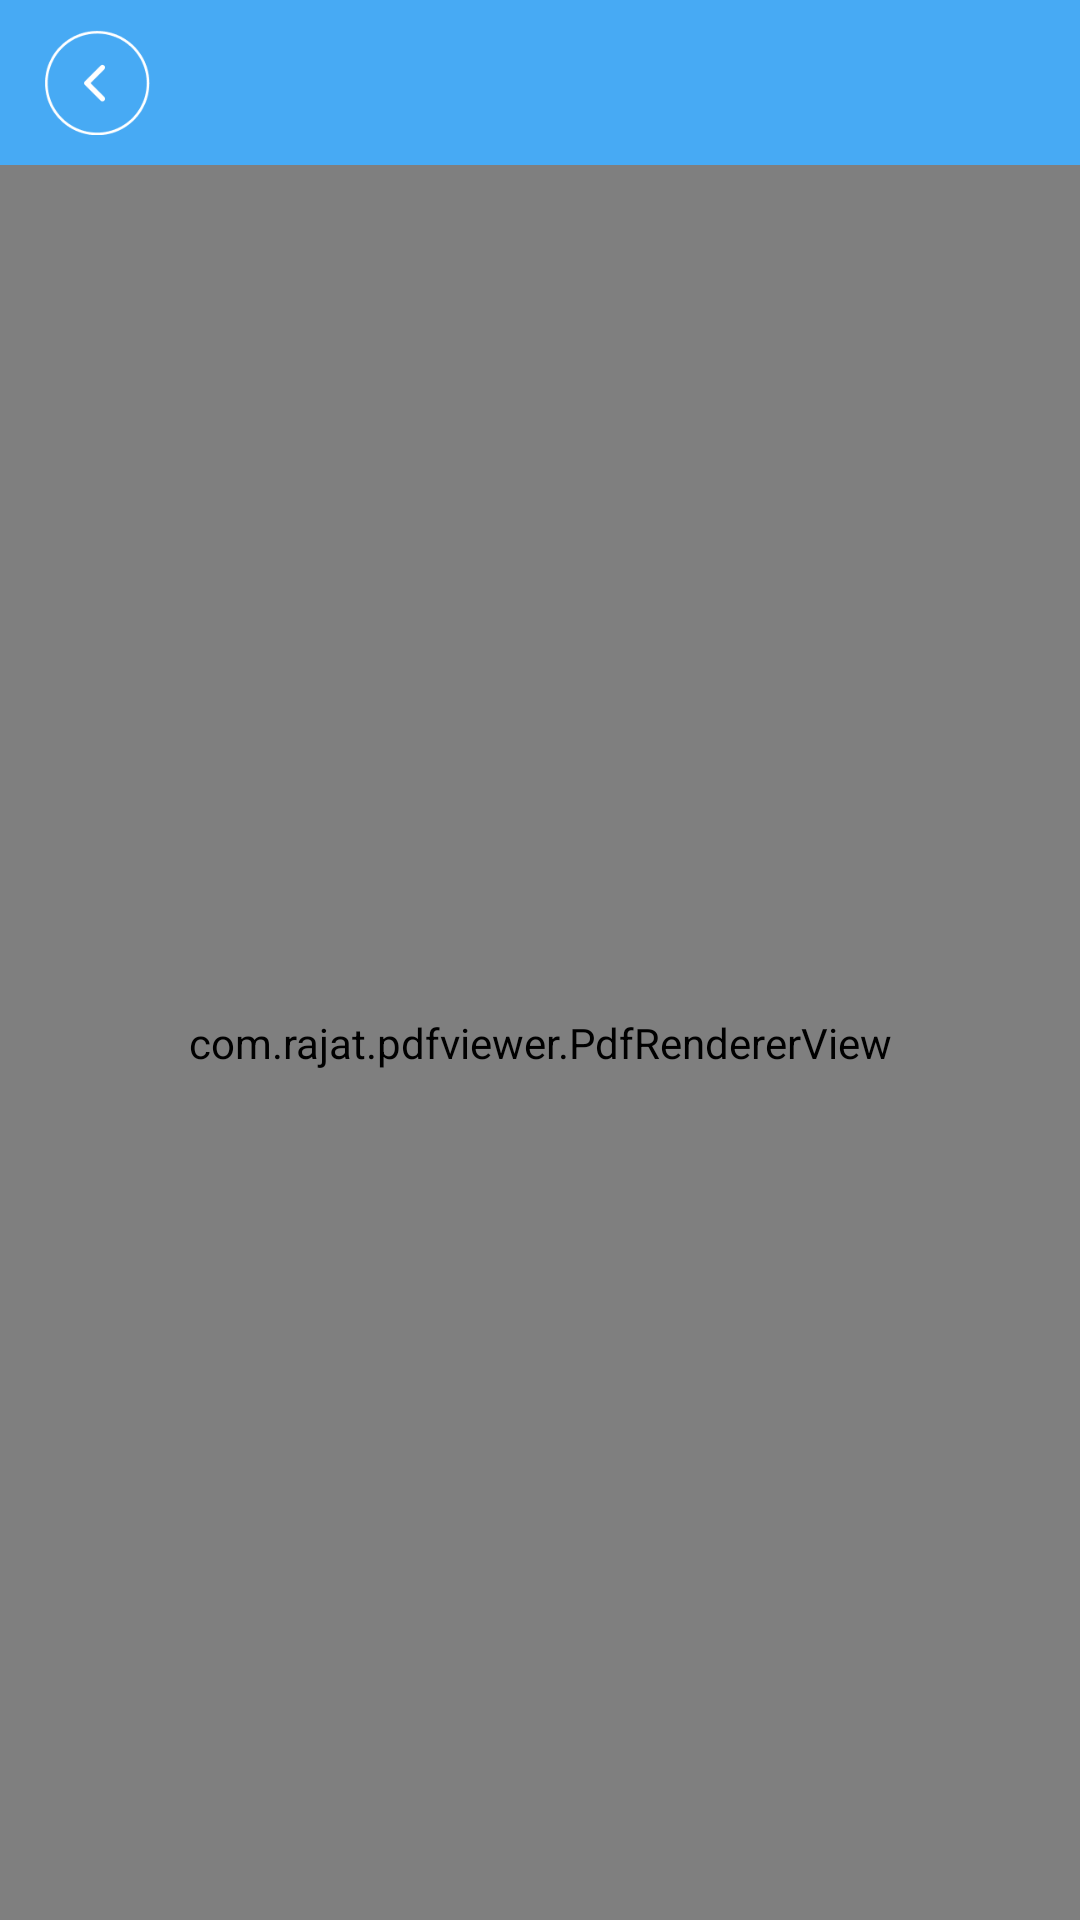

Icon bounding boxes for this 1080x1920 phone screenshot, format (x1, y1, x2, y2):
back: (45, 31, 150, 135)
